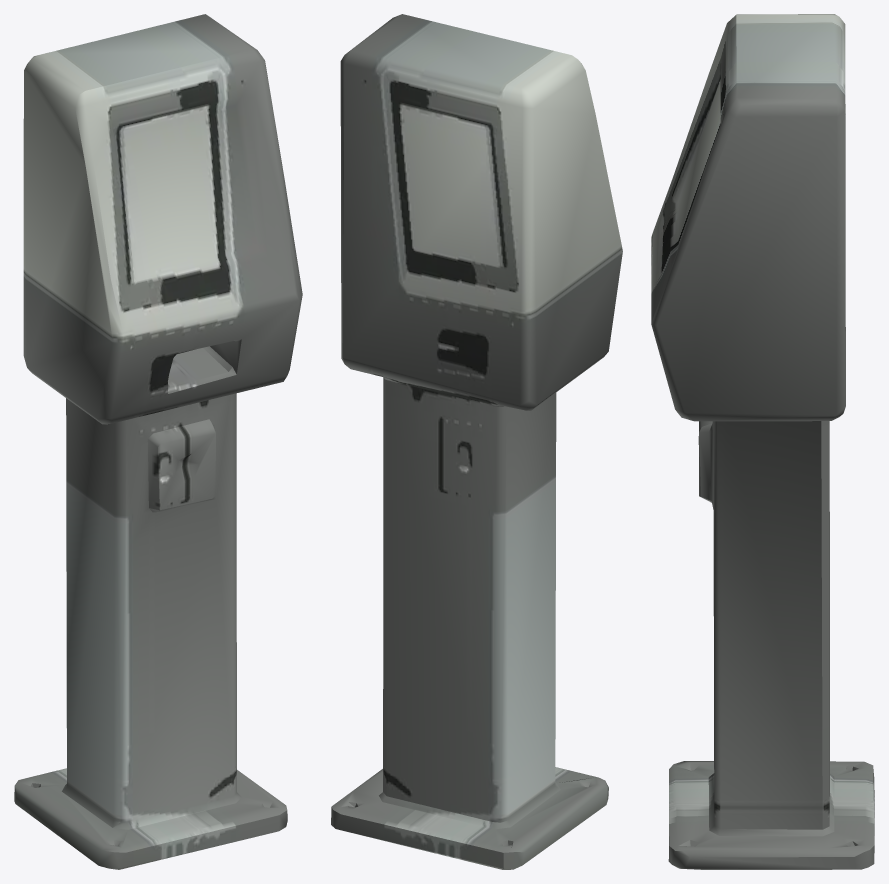
The picture shows the model from 3 angles, left to right: view 1: azimuth 30°, elevation 25°; view 2: azimuth 150°, elevation 25°; view 3: azimuth 270°, elevation 25°; orthographic projection.
Visible parts, largest first — view 1: Decor_pay_station_c; view 2: Decor_pay_station_c; view 3: Decor_pay_station_c.
Boxes of the visible parts, x1,y1,x2,y2 form: Decor_pay_station_c: (14,14,302,869); Decor_pay_station_c: (331,14,622,869); Decor_pay_station_c: (651,14,874,869).
Size of the model in its own units: 0.3952 by 1.5 by 0.3935.
1 material, 1 textured.
